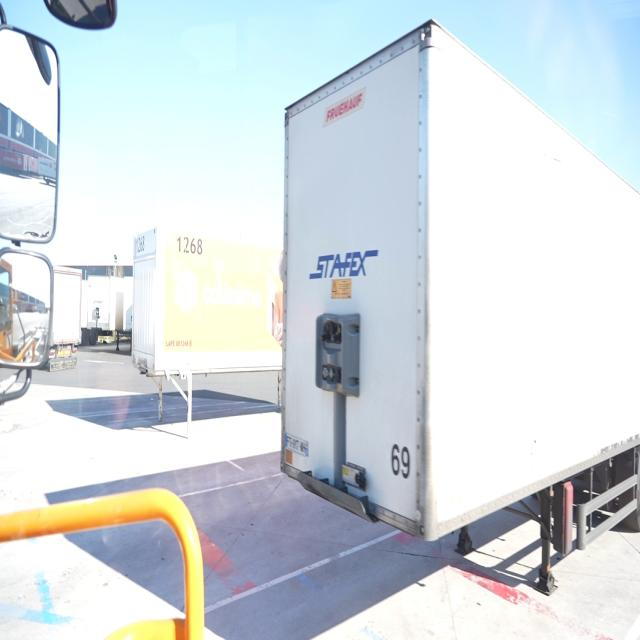Code: (172, 229, 205, 262), (132, 232, 150, 256)
